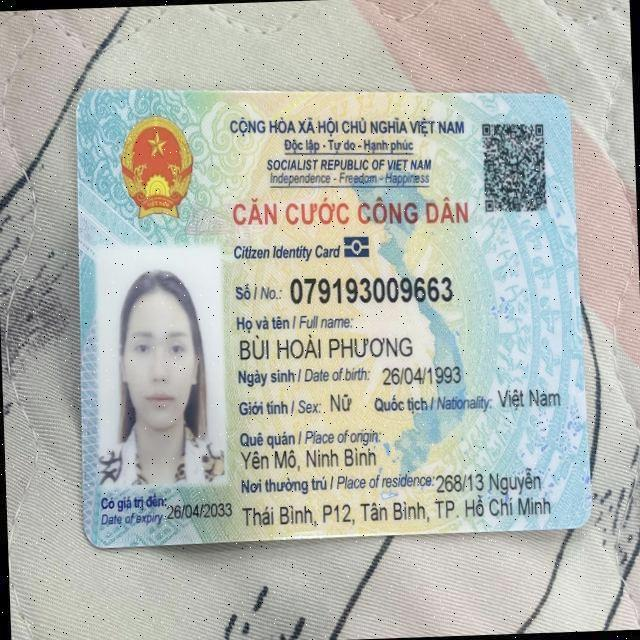current_place: (238, 494, 560, 527), (436, 466, 555, 498)
dob: (376, 358, 463, 392)
expire_date: (167, 496, 235, 524)
gender: (324, 383, 360, 418)
id: (285, 261, 458, 312)
name: (234, 325, 415, 368)
nationality: (494, 380, 567, 418)
origin_place: (235, 444, 385, 476)
